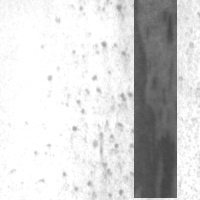inclusion: (134, 0, 177, 198)
pitted_surface: (58, 1, 175, 190)
